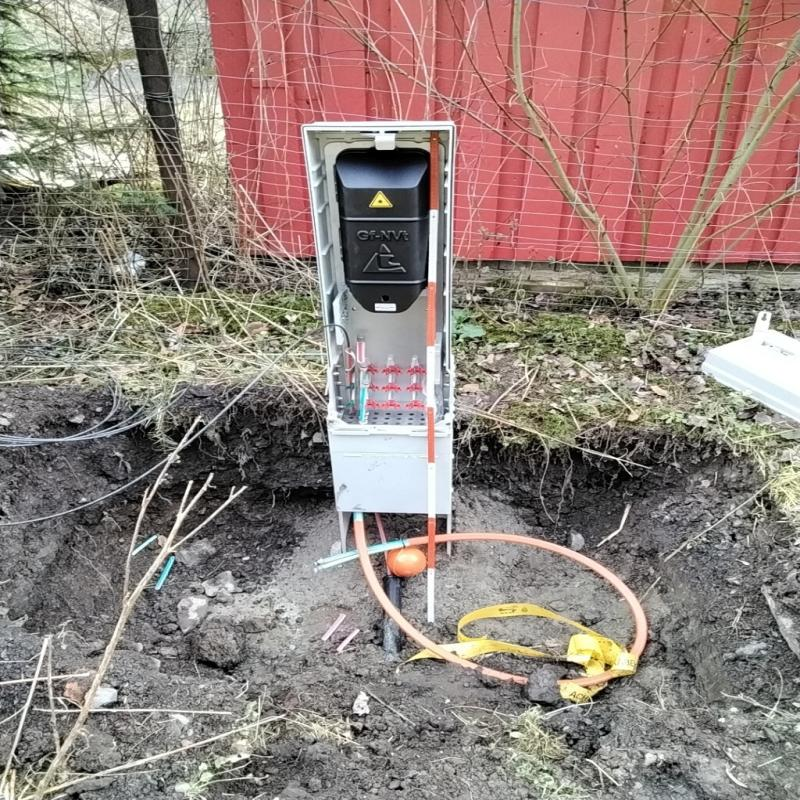Kugelmarker: (386, 546, 426, 577)
NT-Gehause: (304, 121, 454, 512)
Orang-Speednetrohrchen: (408, 534, 647, 689), (354, 522, 525, 685)
